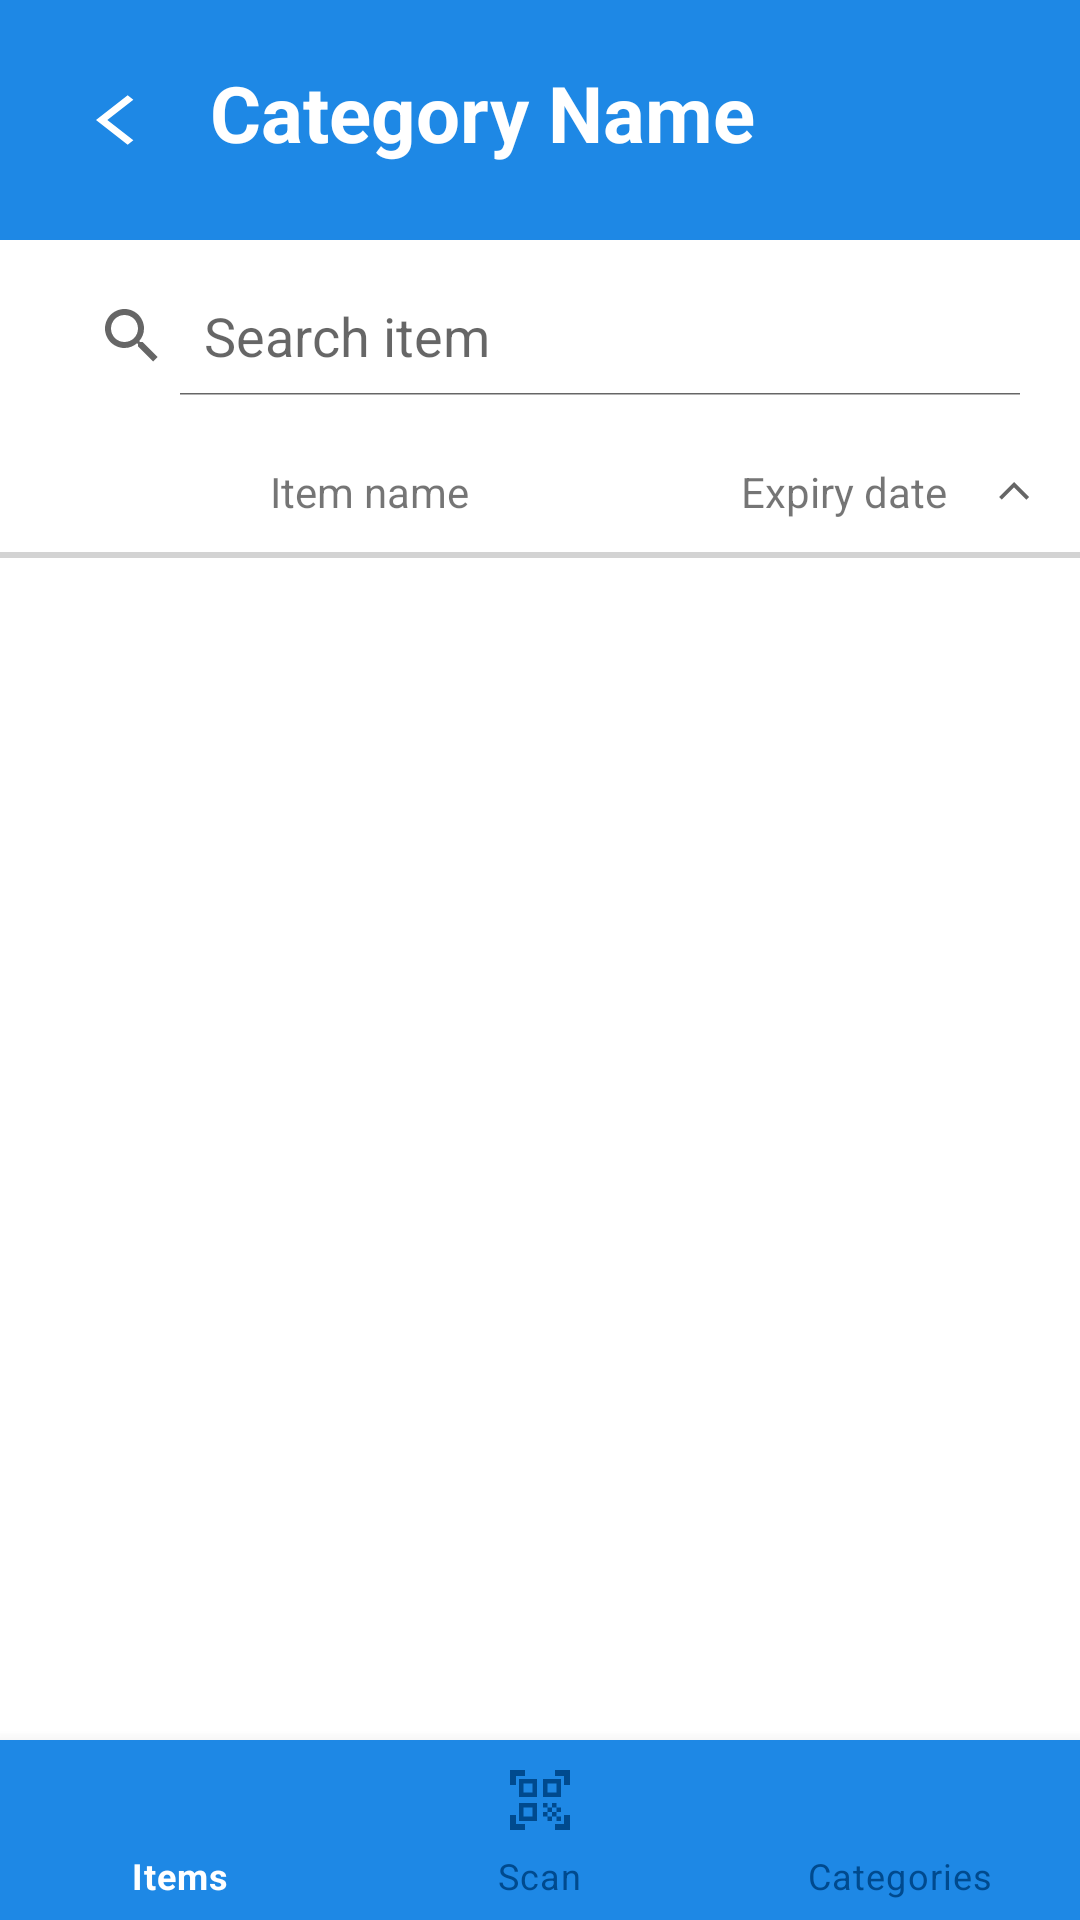

Point at icon controls on the screen. Image size 1080px×1920px, points as (x,y).
arrow back: (114,120)
keyboard arrow up: (1014,491)
